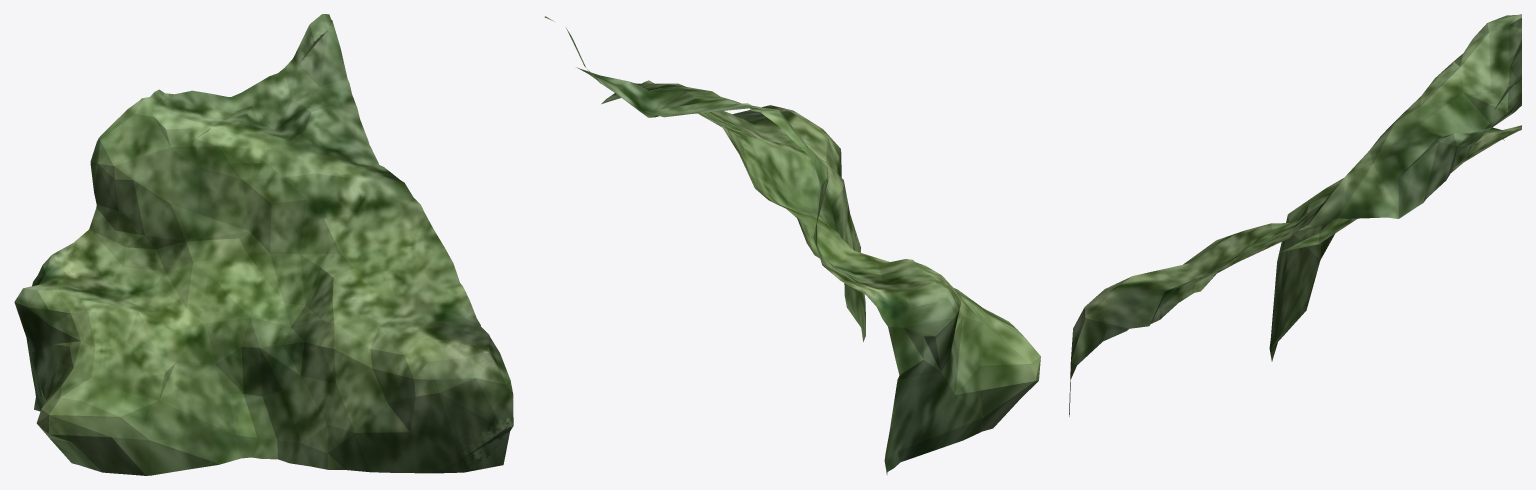
3 renders of one model, left to right at view 1: azimuth 30°, elevation 25°; view 2: azimuth 150°, elevation 25°; view 3: azimuth 270°, elevation 25°, orthographic. The views are drawn at different scales.
Size of the model in its own units: 2.11 by 1.83 by 1.88.
2 materials, 2 textured.
